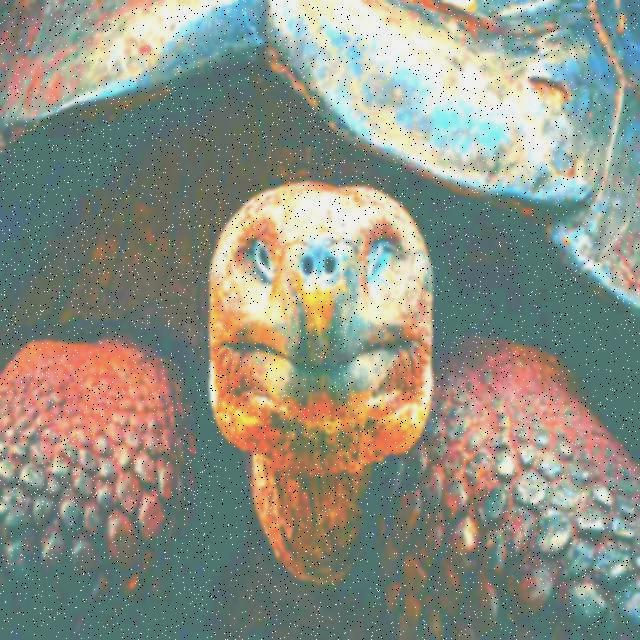tortoise: (0, 175, 634, 605)
